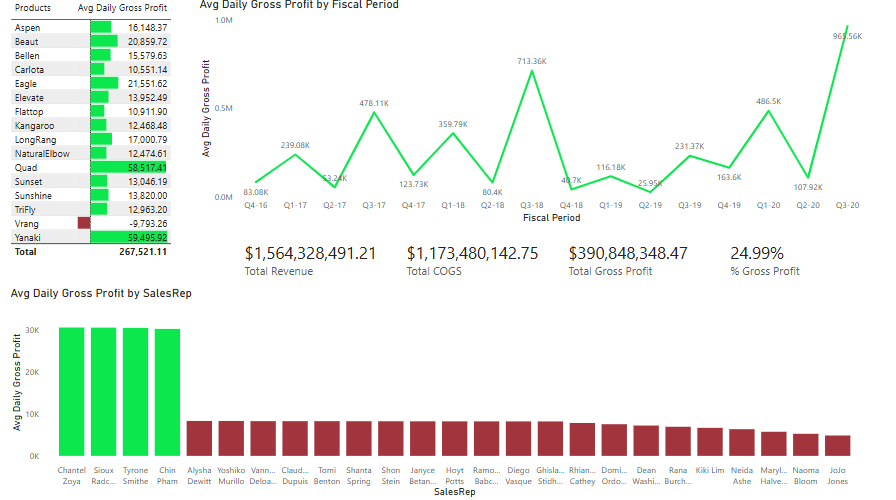

Layout of this report page (visuals, bound fields, positions):
{"tool":"powerbi","page":{"name":"Avg Daily GP","canvas":[1280,720],"ordinal":0},"visuals":[{"type":"tableEx","fields":{"Values":["dProduct.Products","fTransactions.Avg Daily Gross Profit"]},"box":[10.1,0,270.4,413.2],"z":0},{"type":"clusteredColumnChart","fields":{"Category":["dSalesReps.Region Hierarchy.Region","dSalesReps.Region Hierarchy.SalesRep"],"Y":["fTransactions.Avg Daily Gross Profit"]},"box":[10,413.3,1228.3,306.7],"z":1000},{"type":"lineChart","fields":{"Category":["dDate.Fiscal Period"],"Y":["fTransactions.Avg Daily Gross Profit"]},"box":[280,0,958.3,328.3],"z":2000},{"type":"multiRowCard","fields":{"Values":["fTransactions.Total Revenue","fTransactions.Total COGS","fTransactions.Total Gross Profit","fTransactions.% Gross Profit"]},"box":[345,343.3,935,70],"z":3000}]}

Visuals, with their boxes in screenshot pixels (x1, y1, x2, y2), scaled from the page's 1280x720 canvas onto the 896x500 screenshot:
tableEx - dProduct.Products x fTransactions.Avg Daily Gross Profit: 7:0:196:287
clusteredColumnChart - dSalesReps.Region Hierarchy.Region x dSalesReps.Region Hierarchy.SalesRep: 7:287:867:499
lineChart - dDate.Fiscal Period x fTransactions.Avg Daily Gross Profit: 196:0:867:228
multiRowCard - fTransactions.Total Revenue x fTransactions.Total COGS: 241:238:895:287
